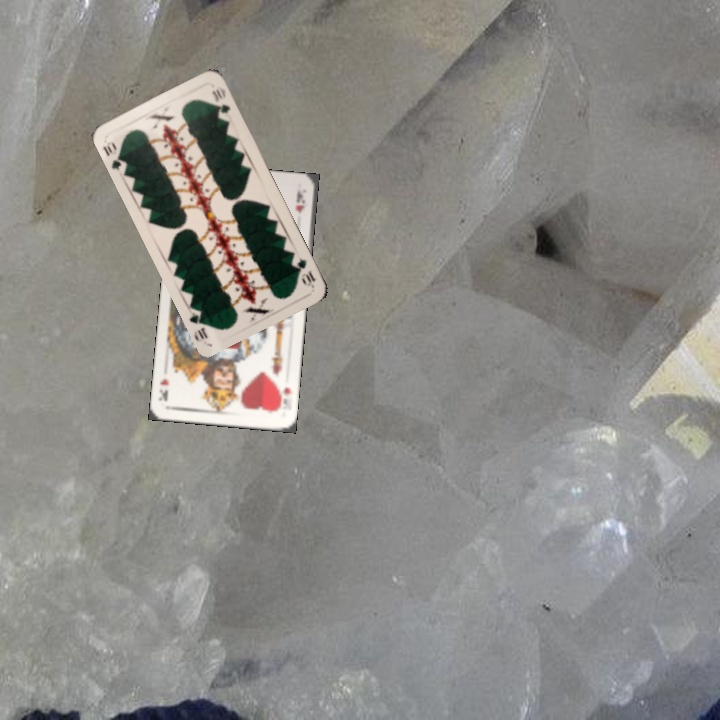G10: (99, 137, 127, 172), (293, 253, 318, 289)
HK: (273, 383, 294, 414)
